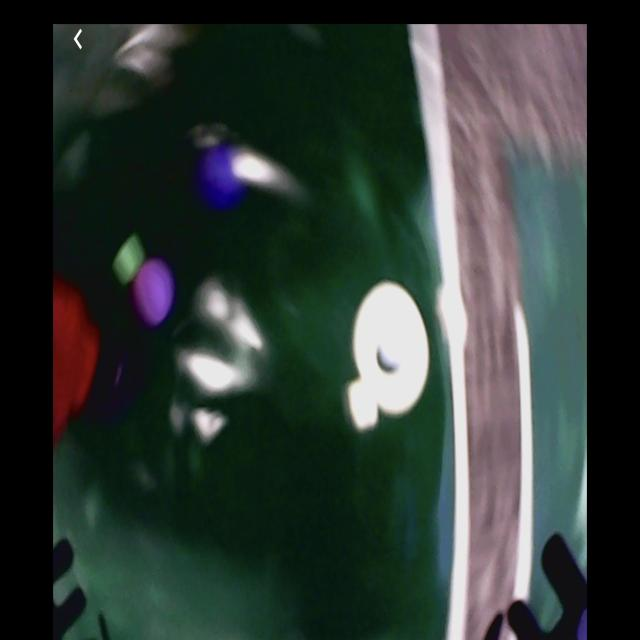ball: (201, 145, 242, 211), (133, 261, 173, 325)
